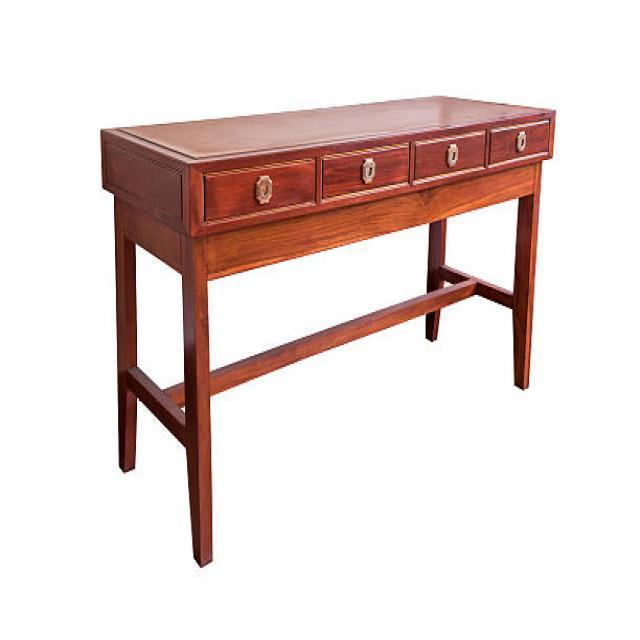table: (99, 93, 556, 566)
